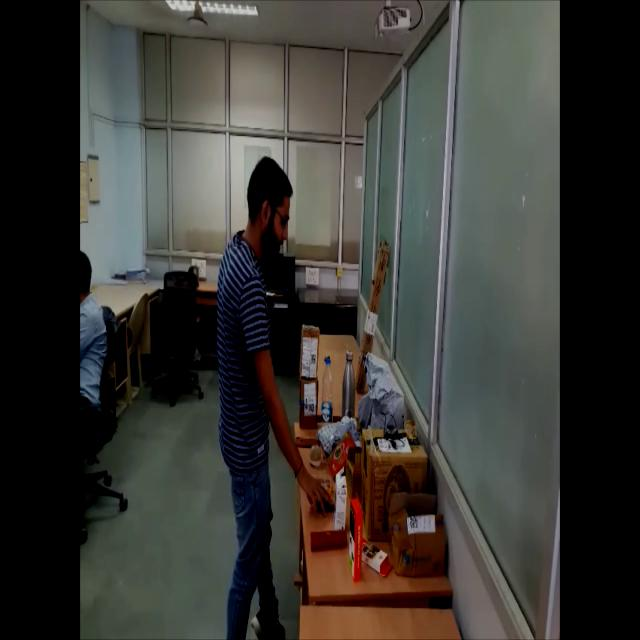normal: (210, 155, 336, 638)
